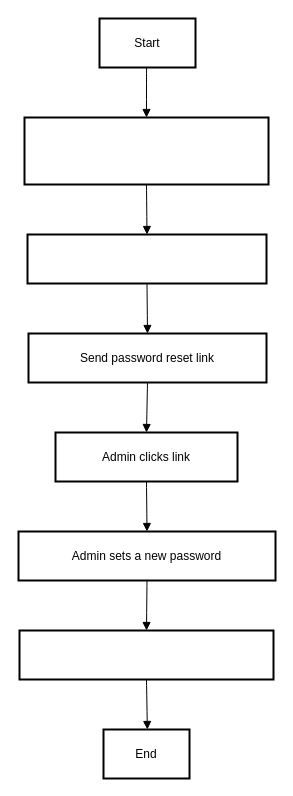
The diagram is 293 pixels wide and 796 high, and some of its shapes have lost their labels. Here are the shapes that lost their labels. From the top down, the centre of each, then its label:
At point (146, 150): "Admin clicks 'Forgot Password'".
At point (146, 258): "Admin inputs their email".
At point (146, 654): "Confirmation message sent".
